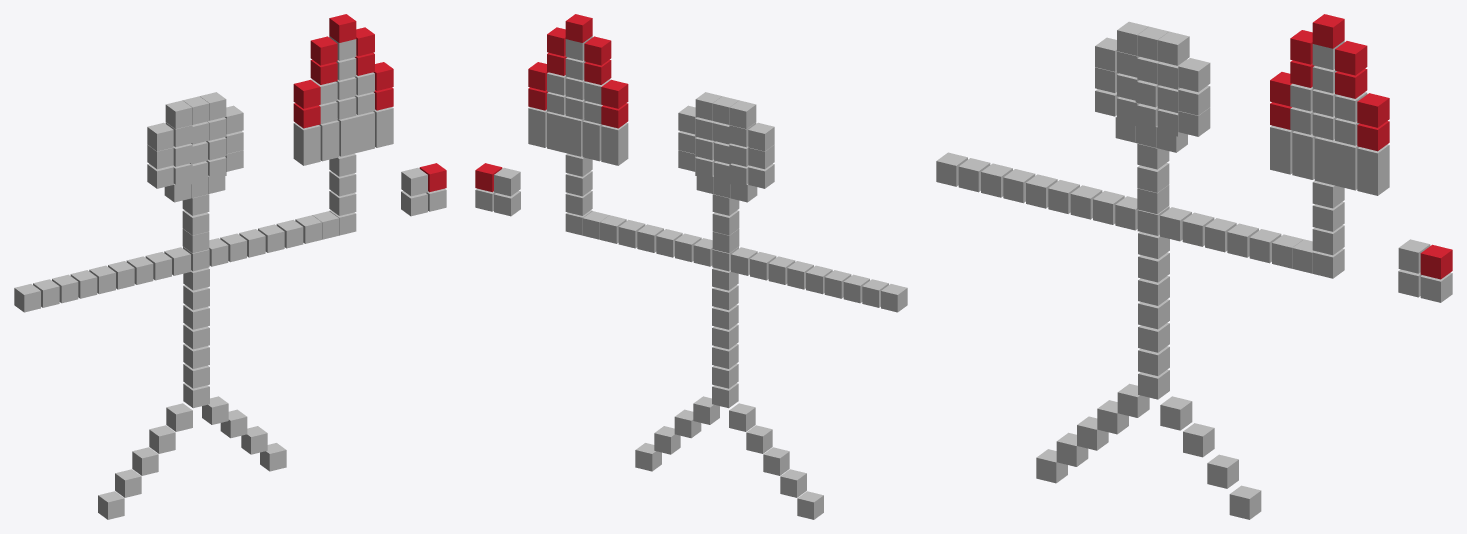
The model's file is Andrew_Song.obj.
The picture shows the model from 3 angles, left to right: view 1: azimuth 30°, elevation 25°; view 2: azimuth 150°, elevation 25°; view 3: azimuth 330°, elevation 25°; orthographic projection. The views are drawn at different scales.
Parts seen in each view (by area): view 1: group_0_7720667, group_0_12568524, group_0_15277357, group_0_16768282; view 2: group_0_7720667, group_0_12568524, group_0_15277357, group_0_16768282; view 3: group_0_7720667, group_0_12568524, group_0_15277357, group_0_16768282.
Boxes of the visible parts, x1,y1,x2,y2 form: group_0_7720667: (14, 92, 427, 519); group_0_12568524: (165, 107, 446, 235); group_0_15277357: (293, 14, 446, 192); group_0_16768282: (311, 36, 427, 216); group_0_7720667: (494, 92, 907, 519); group_0_12568524: (475, 107, 756, 235); group_0_15277357: (475, 14, 628, 192); group_0_16768282: (494, 36, 610, 216); group_0_7720667: (936, 21, 1430, 519); group_0_12568524: (1117, 51, 1452, 302); group_0_15277357: (1270, 14, 1452, 279); group_0_16768282: (1290, 40, 1422, 297).
Bounding box in the file's own units: 248 × 246 × 10.
